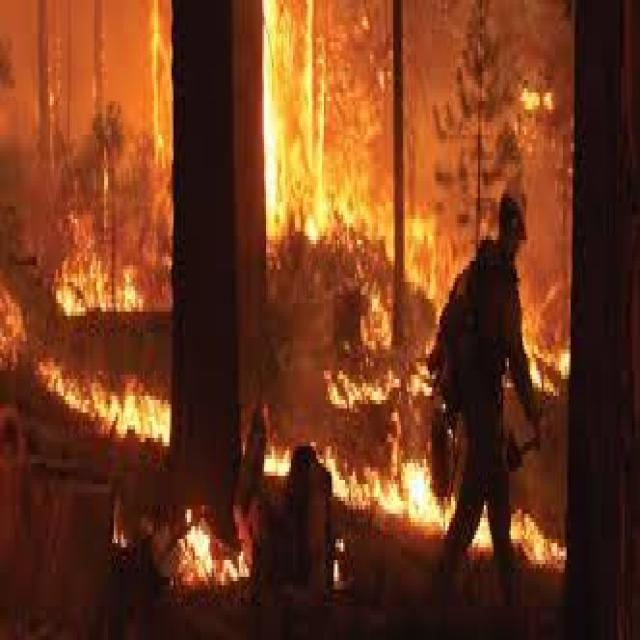Fire: (18, 0, 574, 620)
